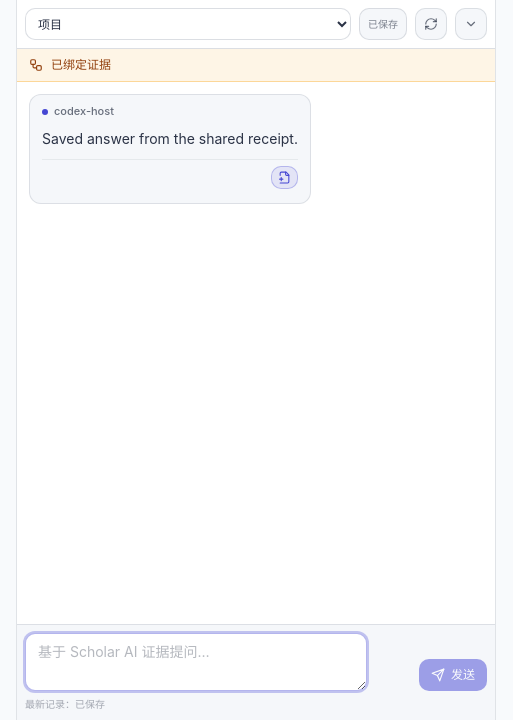
Test: AgentSidebar › keeps evidence, history, actions, and handoff folded behind the compact toolbar by default
This screenshot has width=513, height=720.
Expected: the text "已绑定证据" is shown, [51,57,111,73]
Expected: the text "连续性" is not shown
Click the button named "显示侧栏工具" at (471, 24), box [455,8,487,40]
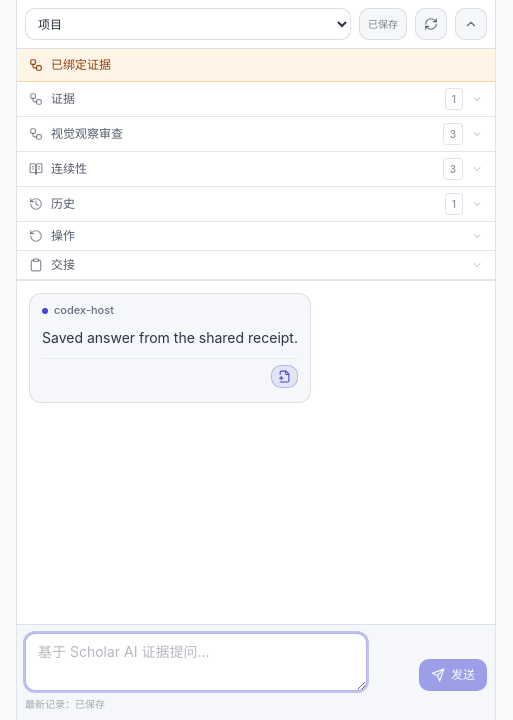
Expected: the text "证据" is shown, [51,91,75,106]
Expected: the text "连续性" is shown, [51,161,87,176]
Expected: the text "历史" is shown, [51,196,75,211]
